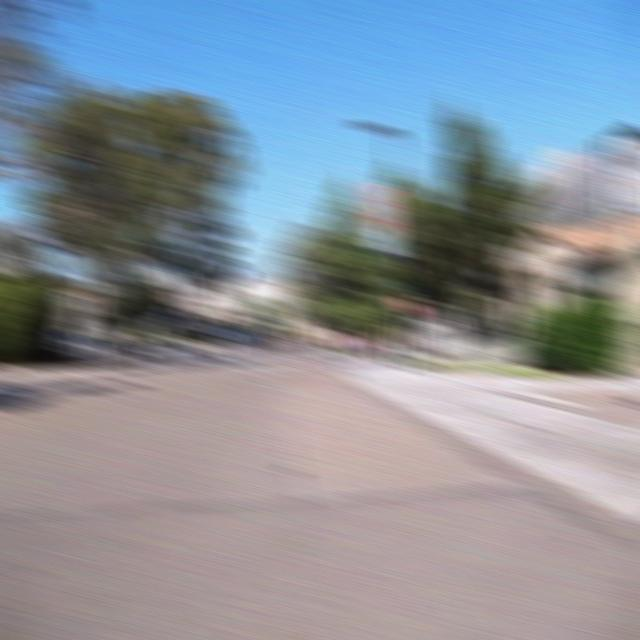stop: (395, 291, 424, 316)
